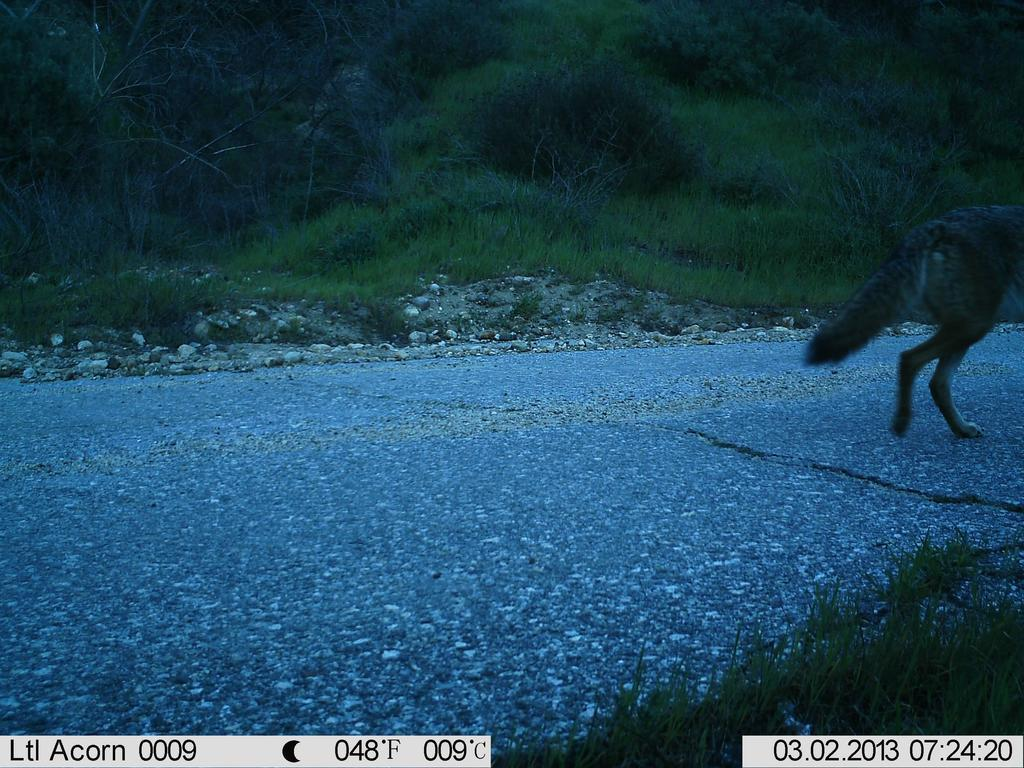coyote: (801, 201, 1019, 446)
